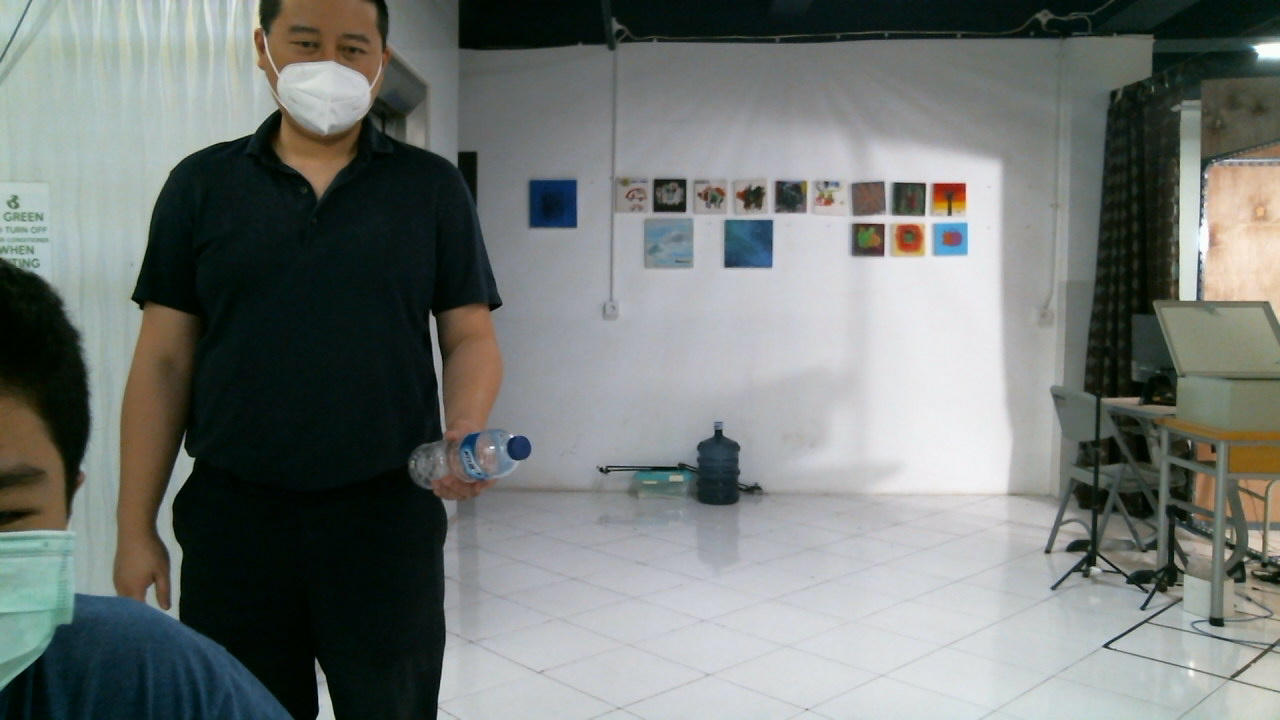Bottle: (413, 431, 532, 487)
